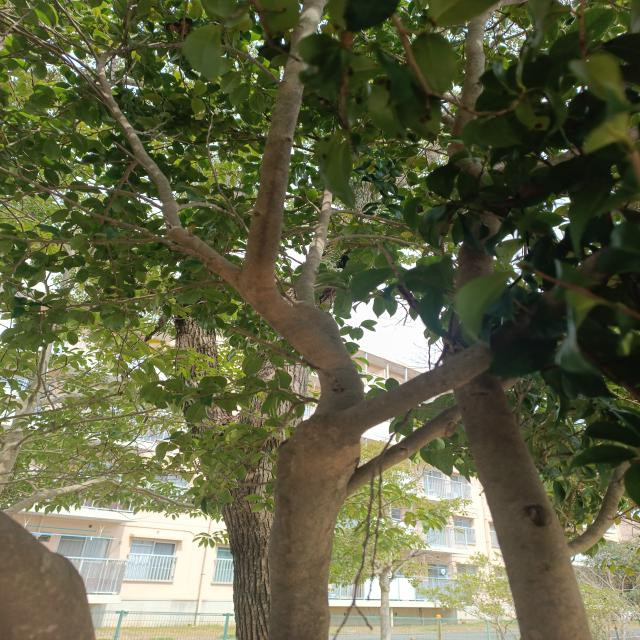Branch: (325, 252, 612, 433), (237, 0, 333, 367)
Twig: (106, 79, 242, 281), (350, 407, 459, 493), (296, 187, 331, 302)
